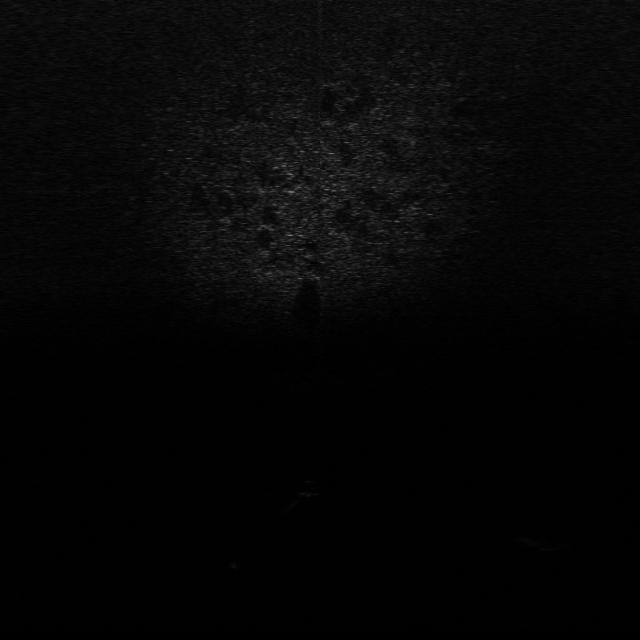ball: (296, 478, 326, 497)
